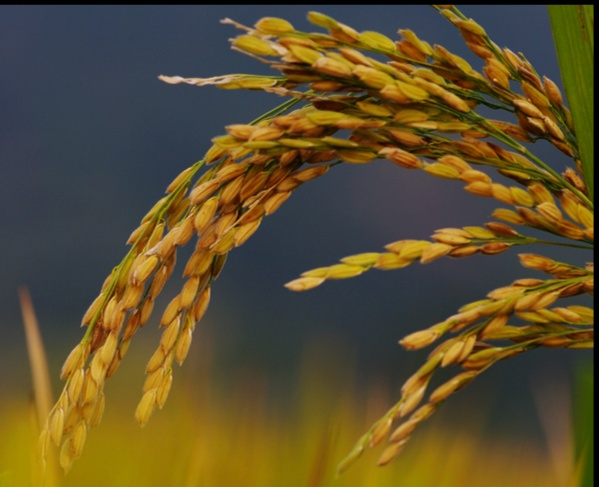rice: (38, 14, 590, 470)
